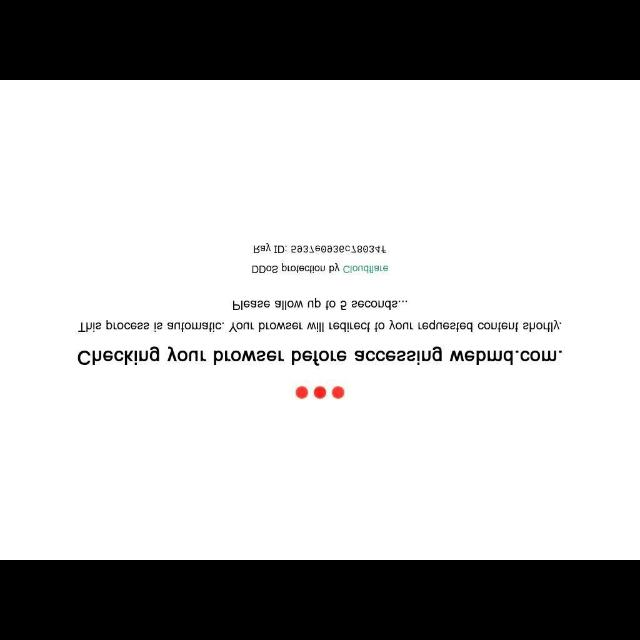image: (294, 384, 346, 401)
text: (78, 297, 564, 333), (75, 350, 565, 368), (250, 262, 390, 276), (252, 244, 390, 254)
